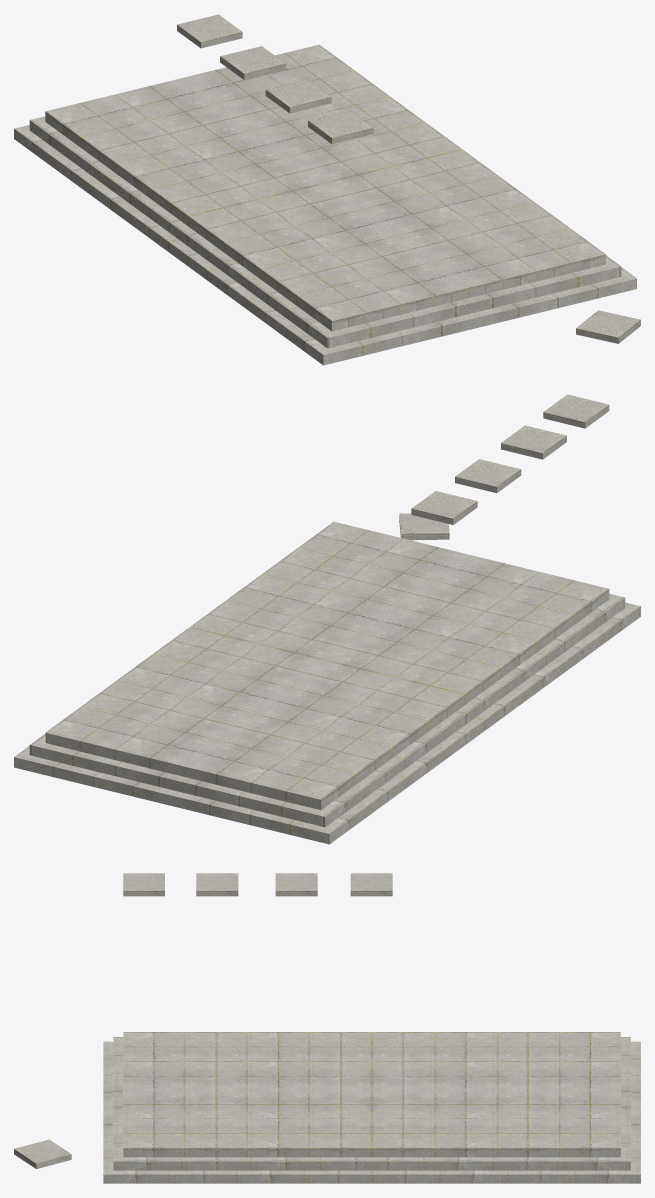
Rendered from temple_unfinished.dae.
3 views of the same model, one above another, from view 1: azimuth 30°, elevation 25°; view 2: azimuth 150°, elevation 25°; view 3: azimuth 270°, elevation 25° (orthographic). The views are drawn at different scales.
Parts seen in each view (by area): view 1: Doric_Capital_05-Pivot; view 2: Doric_Capital_05-Pivot; view 3: Doric_Capital_05-Pivot.
Boxes of the visible parts, x1,y1,x2,y2 form: Doric_Capital_05-Pivot: [14, 14, 640, 365]; Doric_Capital_05-Pivot: [14, 394, 640, 844]; Doric_Capital_05-Pivot: [14, 873, 640, 1183].
Size of the model in its own units: 16.93 by 33.73 by 11.06.
